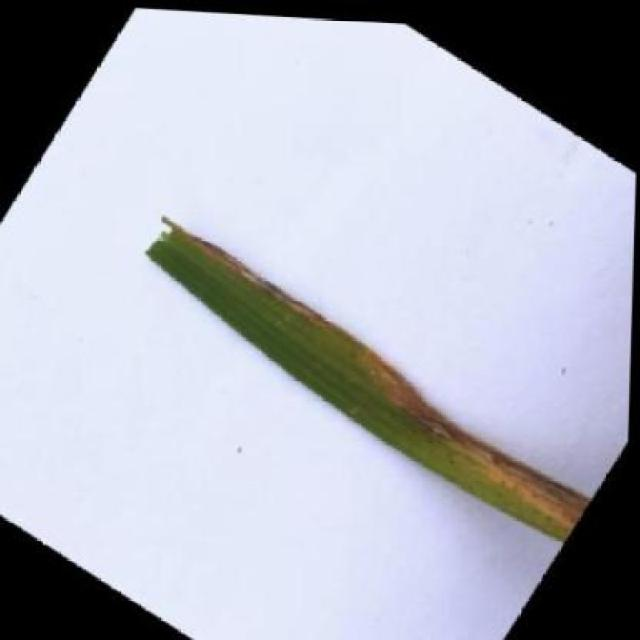Rice False Smut: (121, 205, 605, 550)
